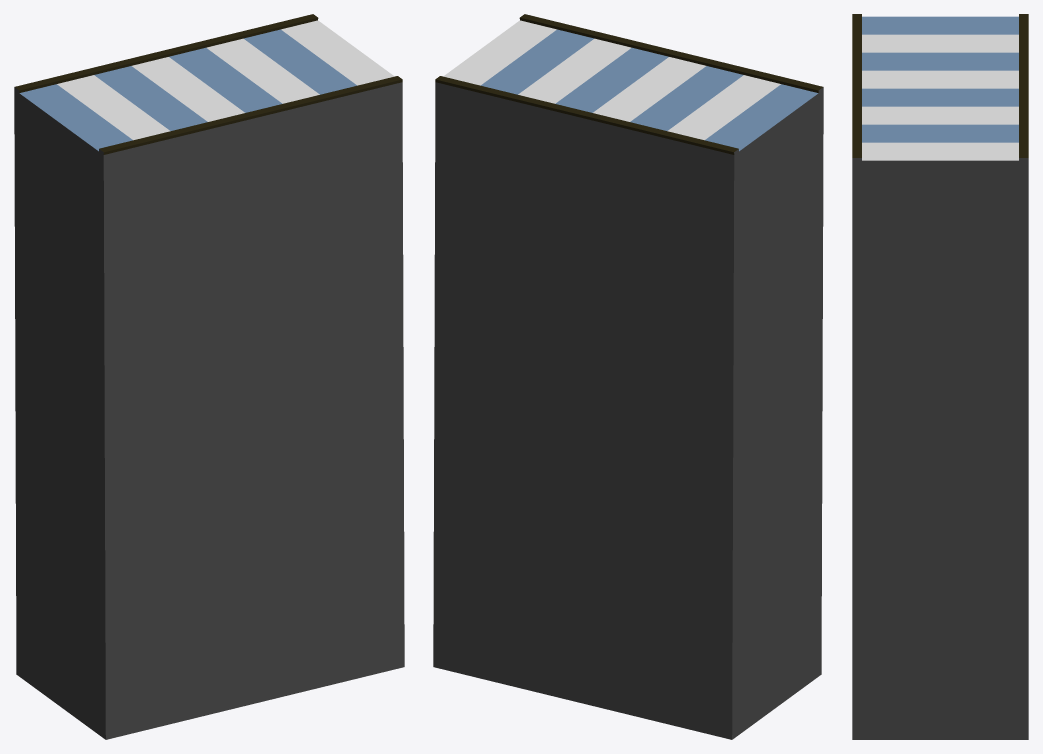
Rendered from TRASS .fbx.
The picture shows the model from 3 angles, left to right: view 1: azimuth 30°, elevation 25°; view 2: azimuth 150°, elevation 25°; view 3: azimuth 270°, elevation 25°; orthographic projection.
Visible parts, largest first — view 1: road.002; view 2: road.002; view 3: road.002.
Part boxes in pixels (x1,y1,x2,y2): road.002: (14, 14, 404, 739); road.002: (433, 14, 823, 739); road.002: (852, 14, 1028, 739).
Size of the model in its own units: 1150 by 2148 by 592.
